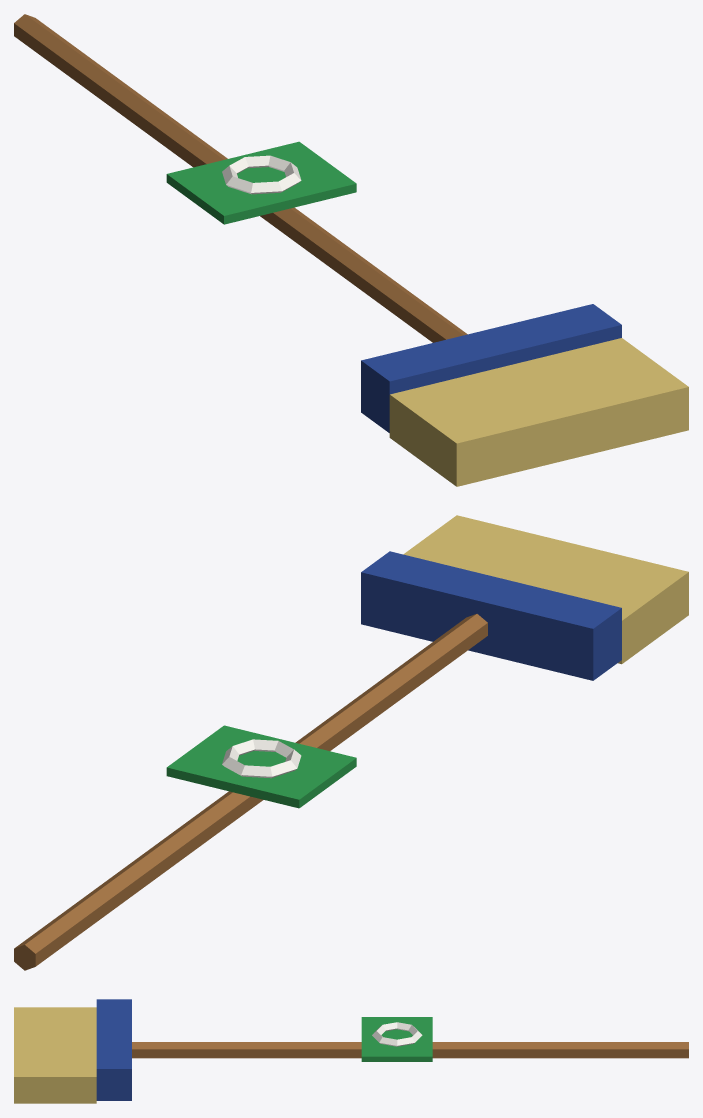
File: recycle_broom.glb
3 renders of one model, top to bottom at view 1: azimuth 30°, elevation 25°; view 2: azimuth 150°, elevation 25°; view 3: azimuth 270°, elevation 25°, orthographic. The views are drawn at different scales.
Parts seen in each view (by area): view 1: bristles_broom_bristles, stick_broom_stick, head_broom_head, sign_recycle_green, arrows_white; view 2: head_broom_head, bristles_broom_bristles, stick_broom_stick, sign_recycle_green, arrows_white; view 3: stick_broom_stick, bristles_broom_bristles, head_broom_head, sign_recycle_green, arrows_white.
Part boxes in pixels (x1=…): bristles_broom_bristles: x1=389, y1=338, x2=688, y2=486; stick_broom_stick: x1=14, y1=14, x2=467, y2=342; head_broom_head: x1=361, y1=304, x2=621, y2=432; sign_recycle_green: x1=166, y1=141, x2=356, y2=224; arrows_white: x1=222, y1=155, x2=301, y2=194; head_broom_head: x1=361, y1=551, x2=621, y2=680; bristles_broom_bristles: x1=403, y1=515, x2=688, y2=664; stick_broom_stick: x1=14, y1=614, x2=487, y2=970; sign_recycle_green: x1=166, y1=725, x2=356, y2=808; arrows_white: x1=222, y1=739, x2=301, y2=778; stick_broom_stick: x1=132, y1=1042, x2=688, y2=1058; bristles_broom_bristles: x1=14, y1=1007, x2=96, y2=1103; head_broom_head: x1=96, y1=999, x2=131, y2=1100; sign_recycle_green: x1=361, y1=1017, x2=432, y2=1061; arrows_white: x1=372, y1=1022, x2=422, y2=1046.
Bounding box in the file's own units: 0.28 × 0.071 × 1.14.
